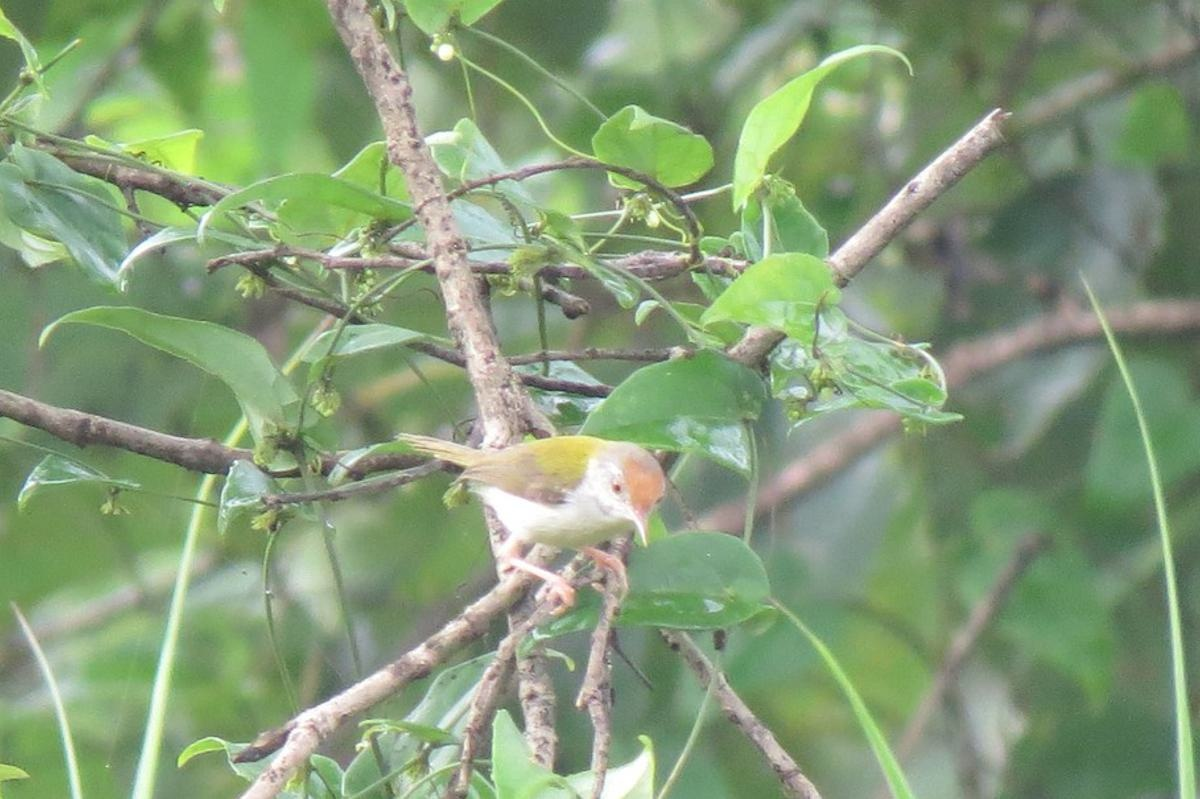tailorbird: (396, 410, 689, 571)
